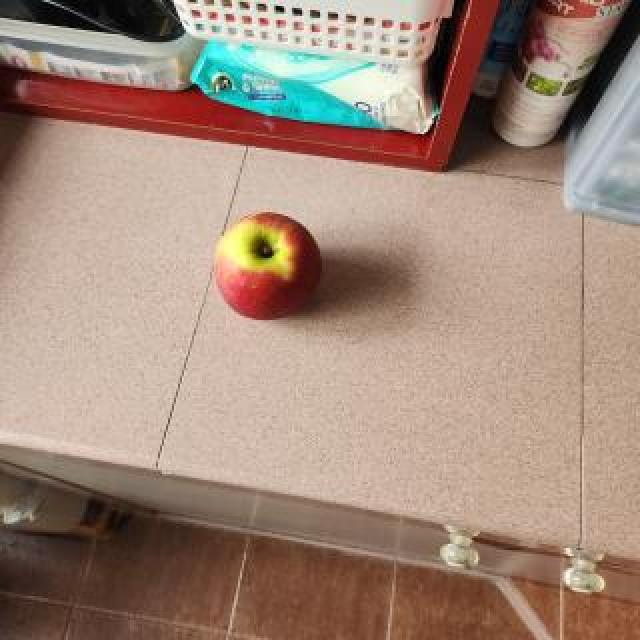Fresh Apple: (209, 216, 316, 318)
